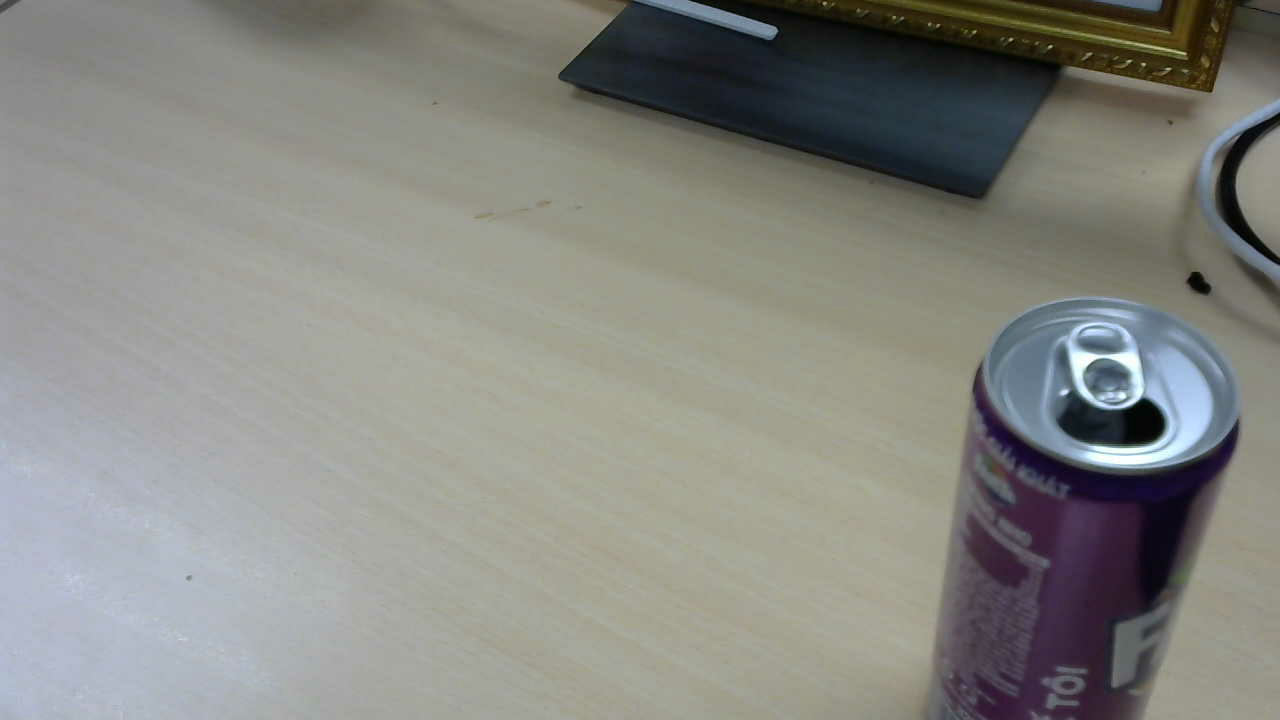Fanta: (932, 299, 1250, 698)
